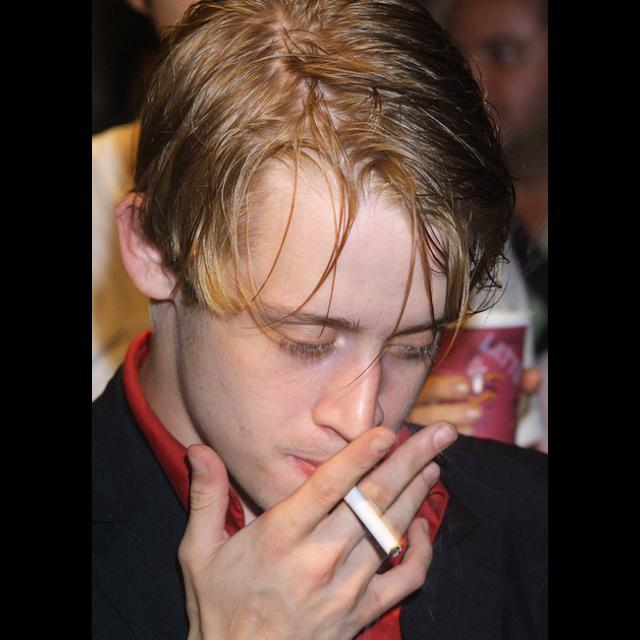rokok: (342, 481, 401, 584)
